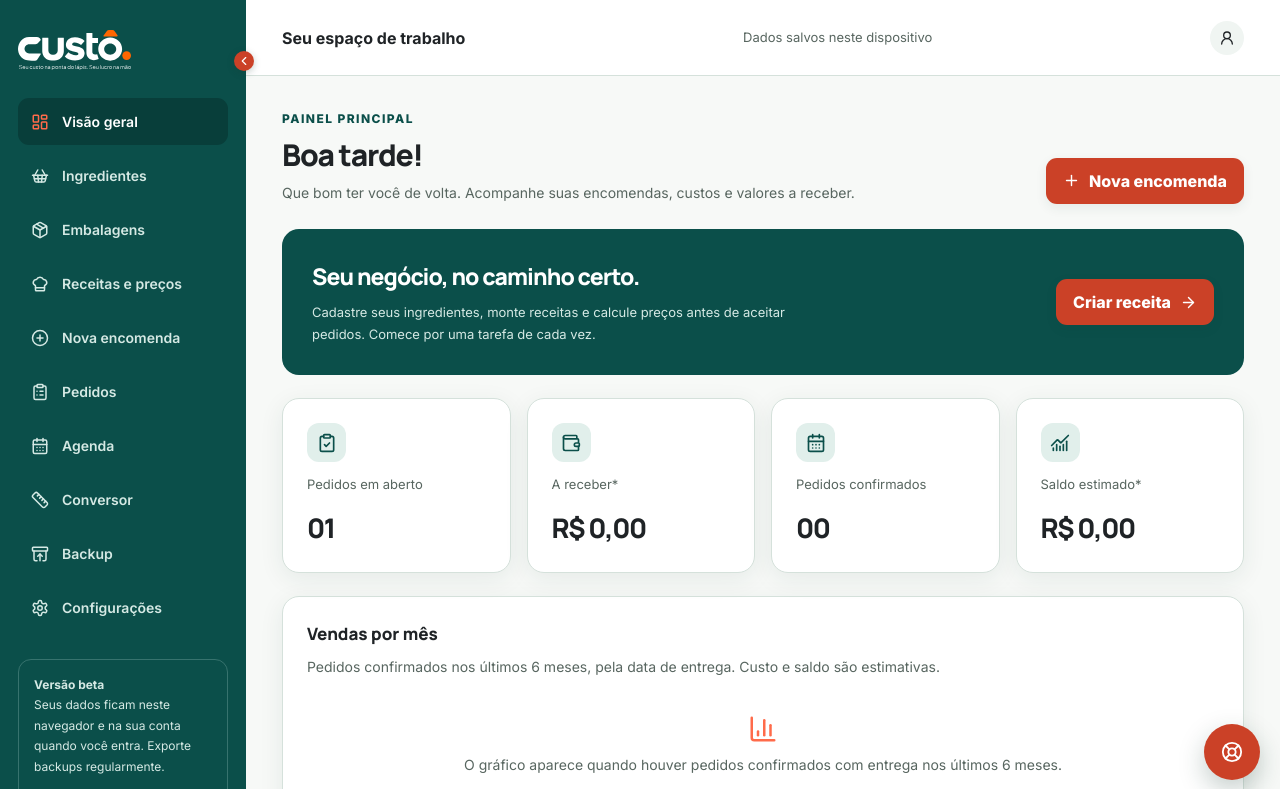
Lista, detalhes e recebimento › a lista resume os itens e mostra o total consolidado
What coordinates should you click on to do the following:
click the button "Pedidos"
I would click on:
 (123, 392)
Its box is [18,368,228,415].
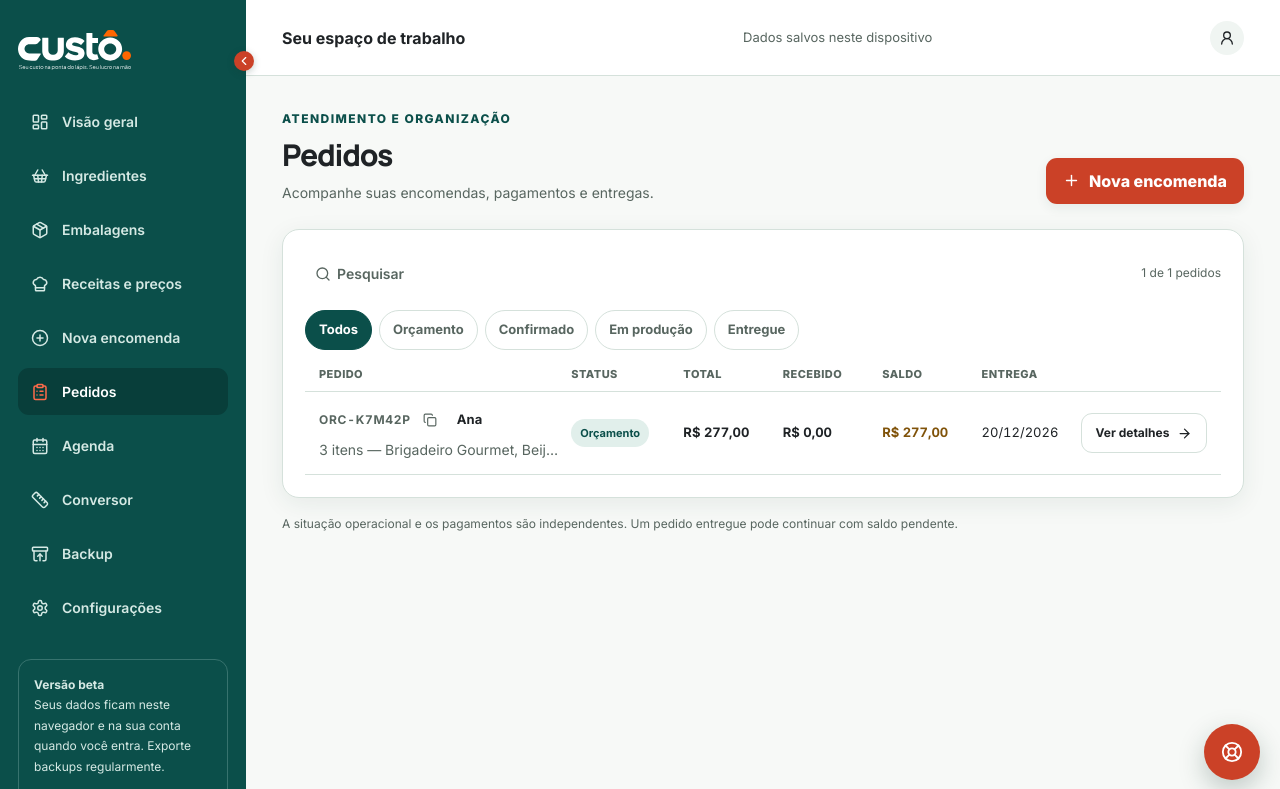
Expected: the text "3 itens — Brigadeiro Gourmet, Beijinho e Bolo de cenoura" is shown, [319,439,559,461]
Expected: the 1st text "R$ 277,00" is shown, [683,424,750,440]
